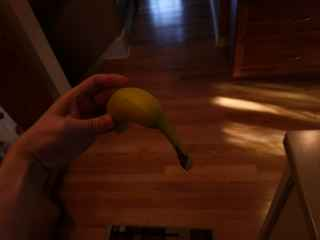banana: (104, 84, 195, 176)
